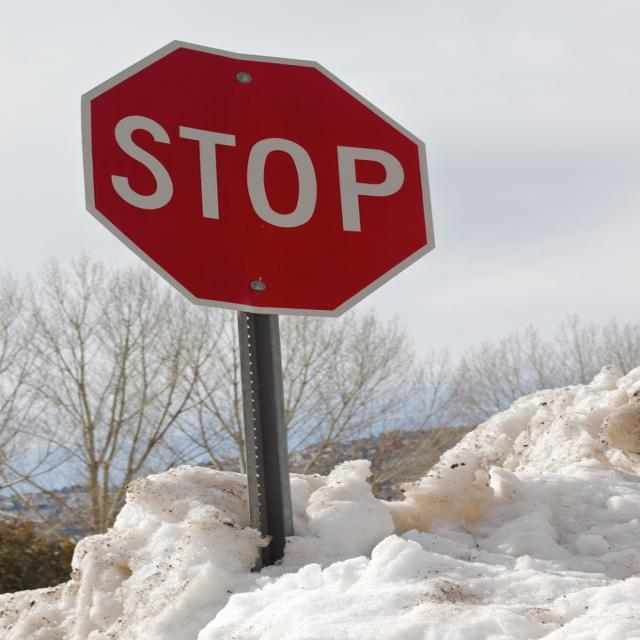Stop-sign: (81, 38, 436, 320)
